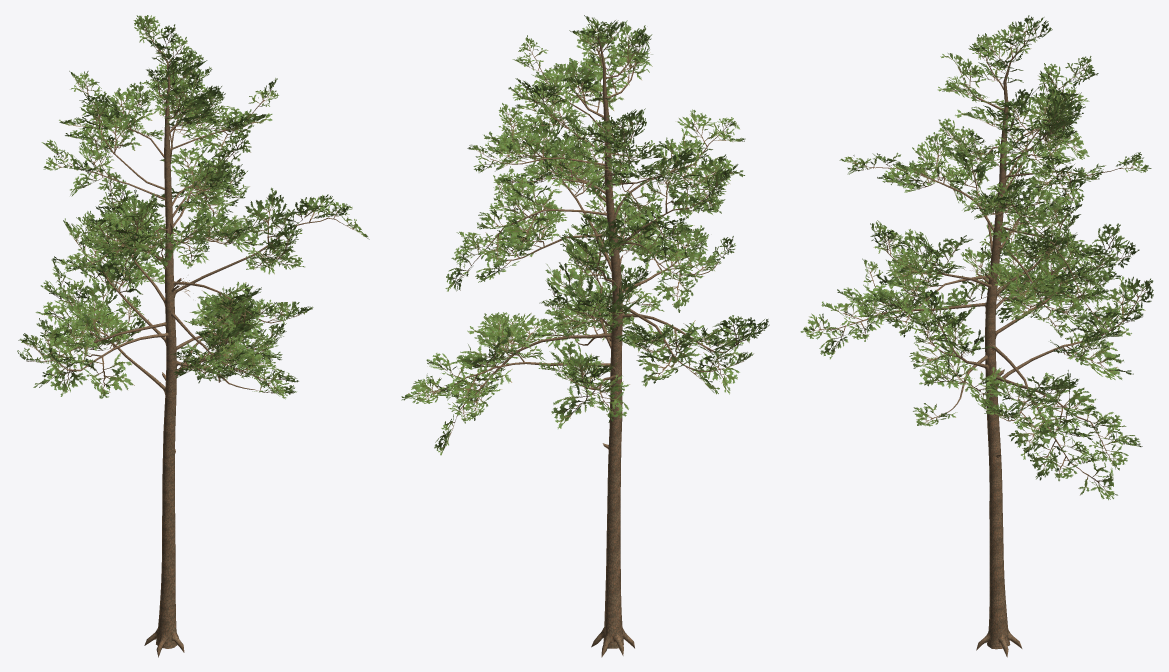
The picture shows the model from 3 angles, left to right: view 1: azimuth 30°, elevation 25°; view 2: azimuth 150°, elevation 25°; view 3: azimuth 270°, elevation 25°; orthographic projection. The views are drawn at different scales.
Parts seen in each view (by area): view 1: Pine_large_2_LOD0_Bark_Mat_0; view 2: Pine_large_2_LOD0_Bark_Mat_0; view 3: Pine_large_2_LOD0_Bark_Mat_0.
Boxes of the visible parts, x1,y1,x2,y2 form: Pine_large_2_LOD0_Bark_Mat_0: [17, 15, 369, 657]; Pine_large_2_LOD0_Bark_Mat_0: [401, 15, 769, 657]; Pine_large_2_LOD0_Bark_Mat_0: [800, 15, 1153, 657].
Bounding box in the file's own units: 16.41 × 31.59 × 16.11.
